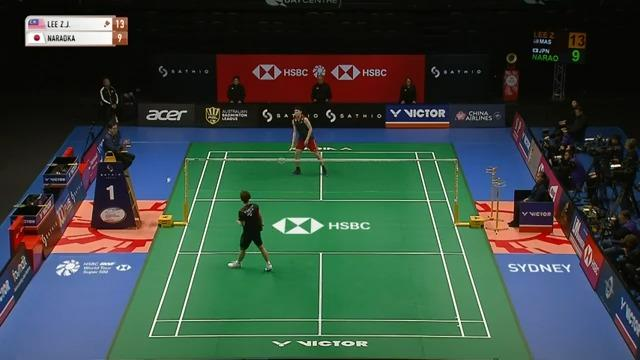Shuttlecock: (163, 175, 174, 185)
